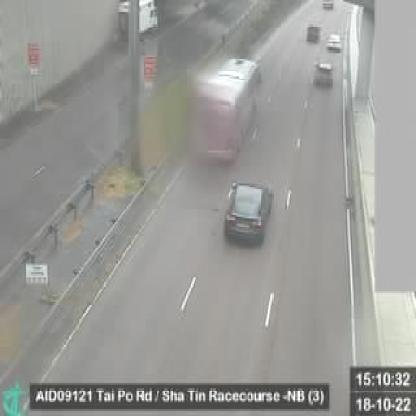Bus: (196, 58, 262, 164)
Car: (220, 177, 274, 251), (315, 61, 335, 88), (305, 23, 321, 45), (326, 31, 342, 50), (320, 1, 334, 11)
